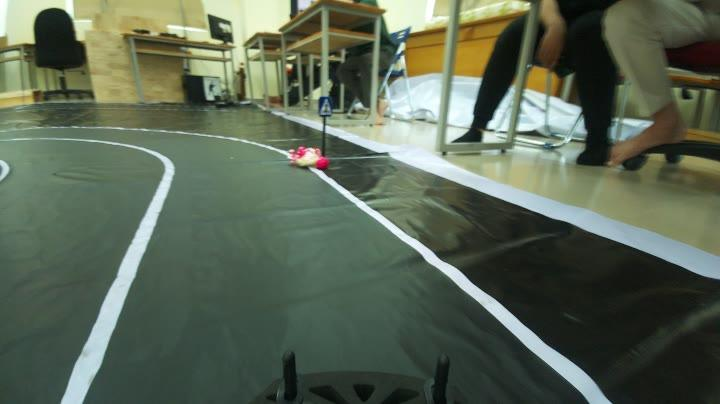crosswalk: (314, 91, 337, 121)
